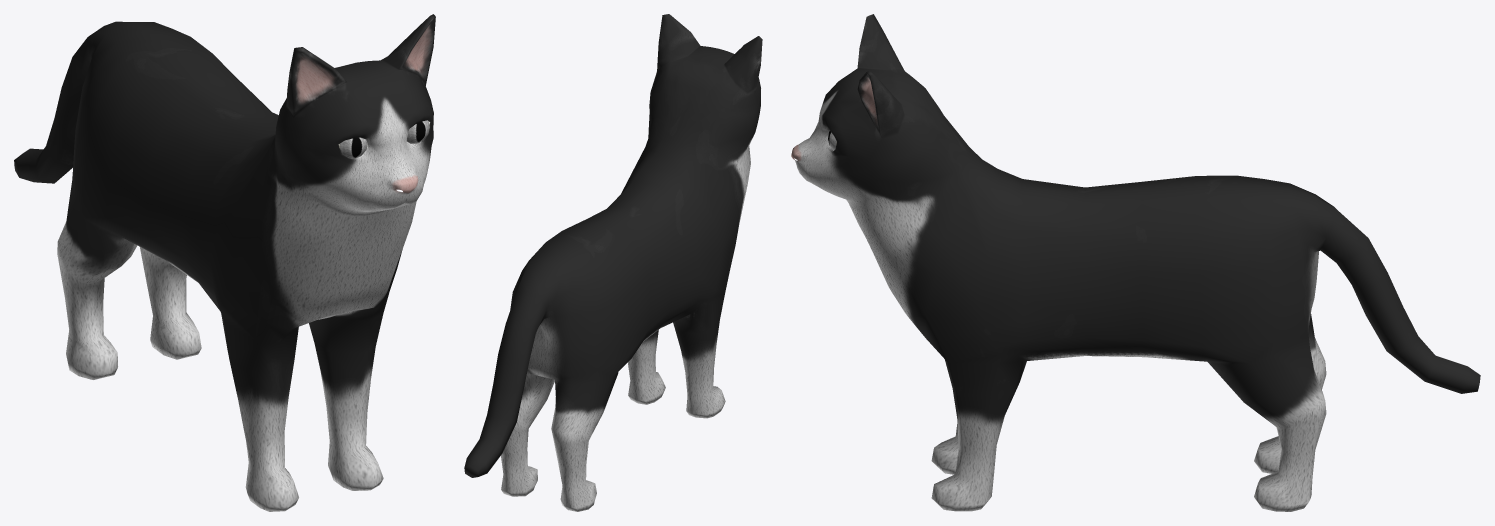
Rendered from cat_BWblack.glb.
3 views of the same model, side by side, from view 1: azimuth 30°, elevation 25°; view 2: azimuth 150°, elevation 25°; view 3: azimuth 270°, elevation 25° (orthographic). The views are drawn at different scales.
Parts seen in each view (by area): view 1: body cat_geo.001, cat_geo eyes.001; view 2: body cat_geo.001; view 3: body cat_geo.001.
Part boxes in pixels (bbox=[...]): body cat_geo.001: bbox=[14, 14, 435, 511]; cat_geo eyes.001: bbox=[338, 120, 429, 158]; body cat_geo.001: bbox=[464, 14, 762, 511]; body cat_geo.001: bbox=[791, 14, 1480, 511].
Bounding box in the file's own units: 1572 × 5053 × 7130.
2 materials, 2 textured.
